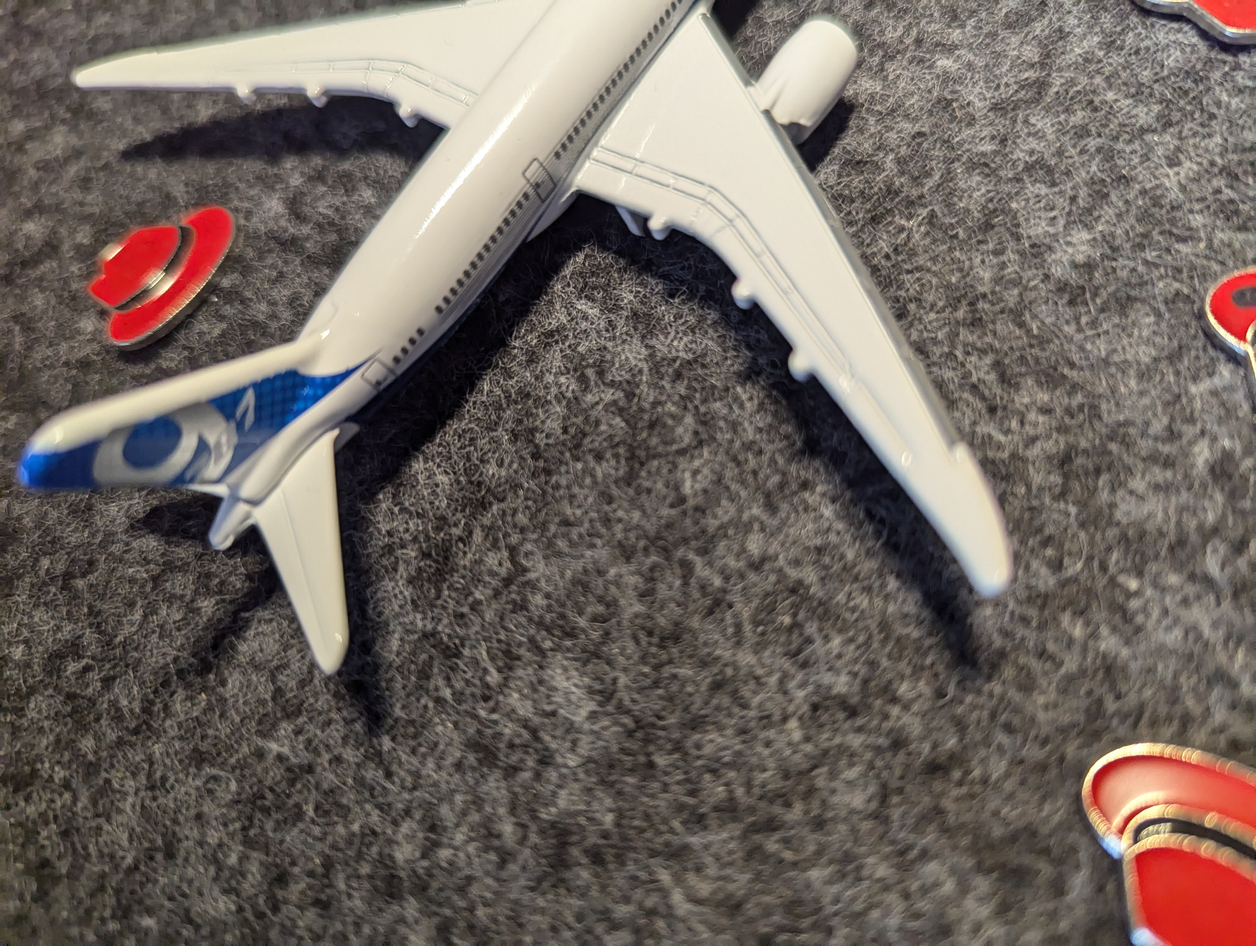Airplane: (0, 0, 1045, 759)
Red-Hat: (1070, 711, 1256, 946), (71, 187, 258, 351)
